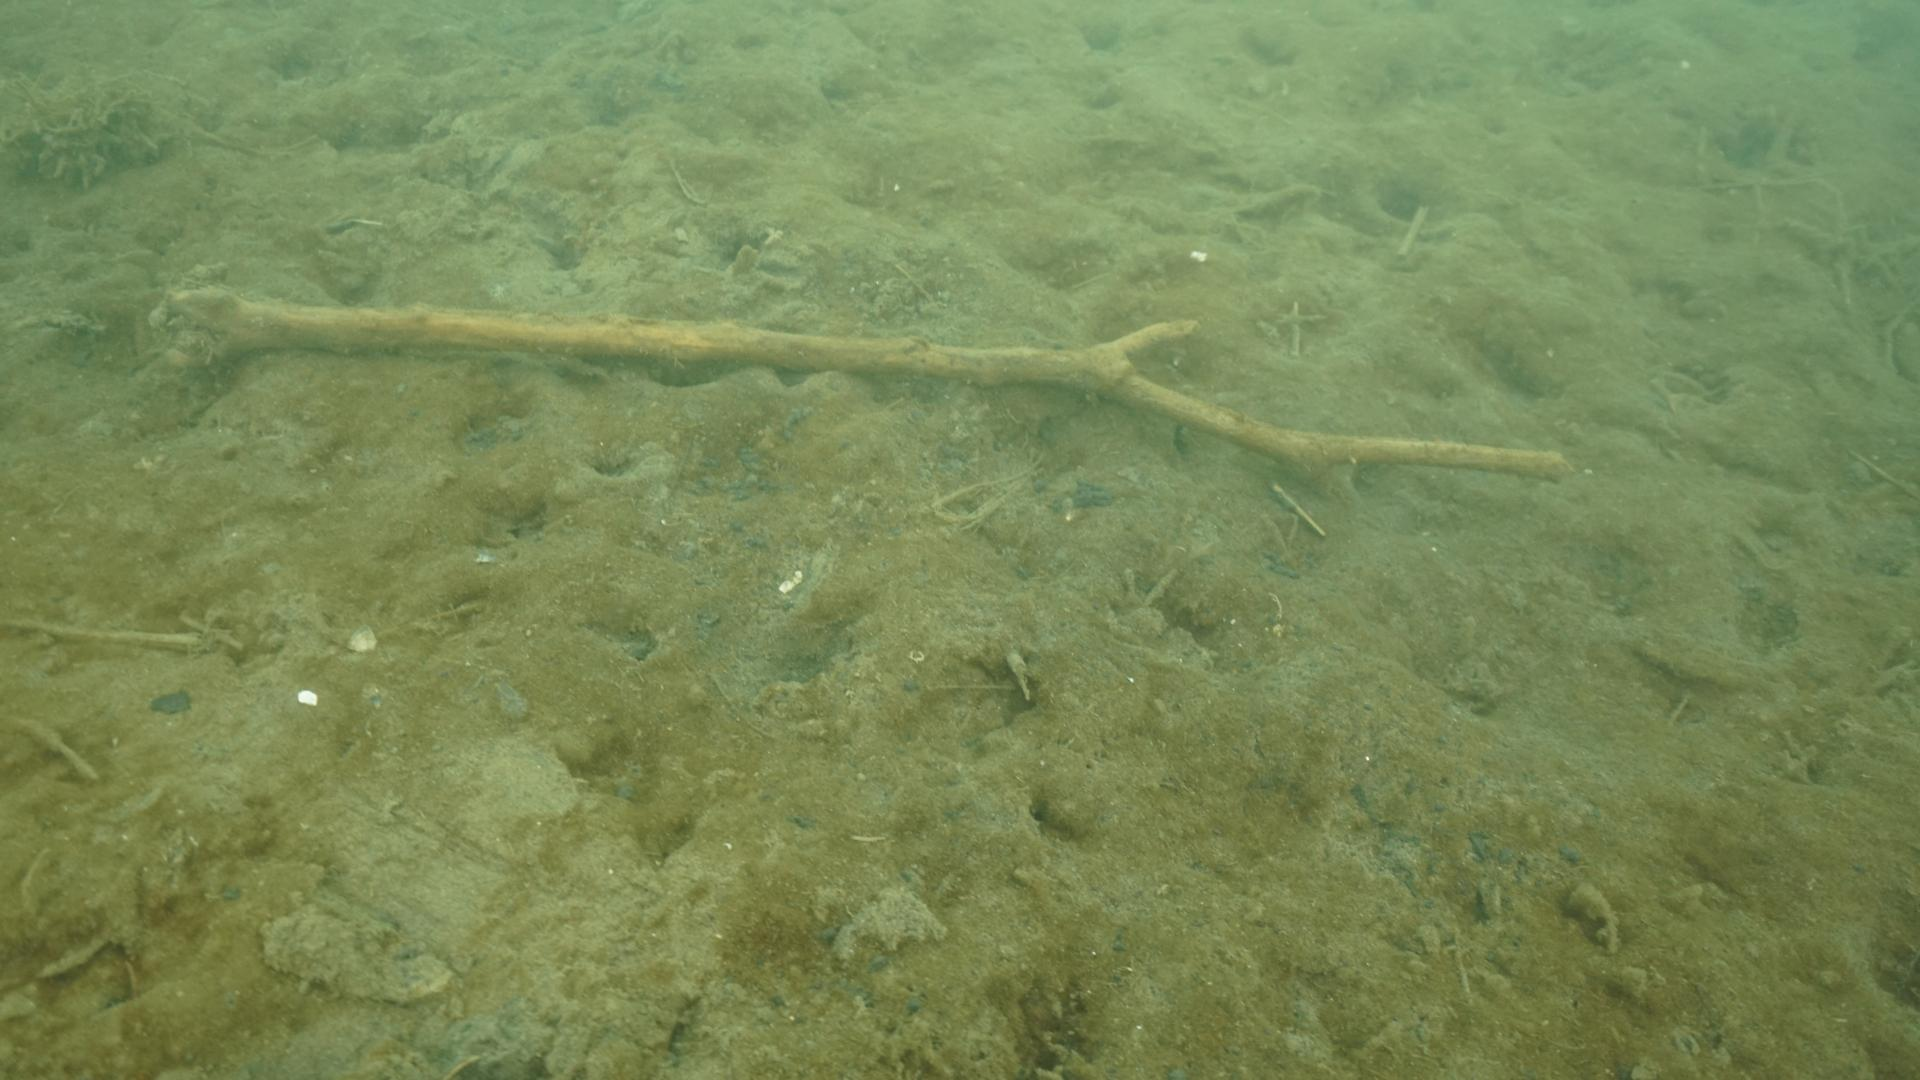wood: (145, 284, 1575, 485)
